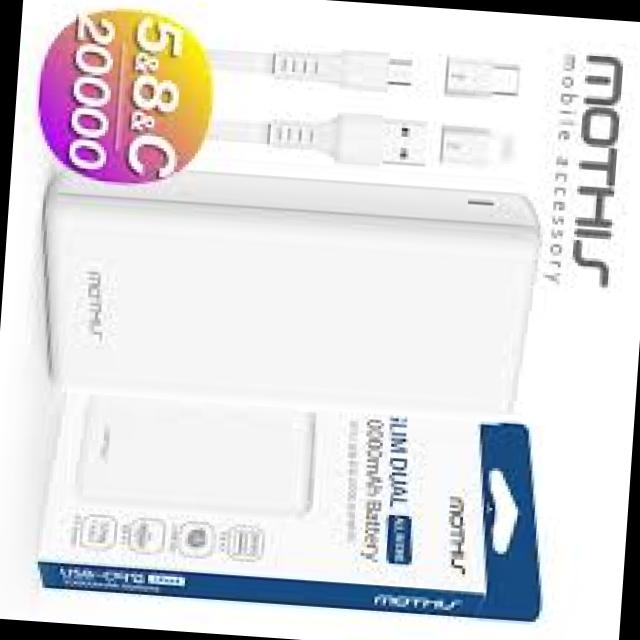power_bank: (37, 156, 542, 424), (68, 382, 323, 522)
